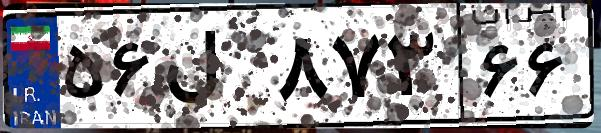3: (385, 28, 445, 110)
5: (57, 26, 110, 100)
6: (475, 38, 525, 113), (525, 38, 570, 115), (110, 28, 158, 98)
7: (330, 28, 385, 110)
8: (270, 28, 330, 110)
ل: (158, 20, 270, 120)
